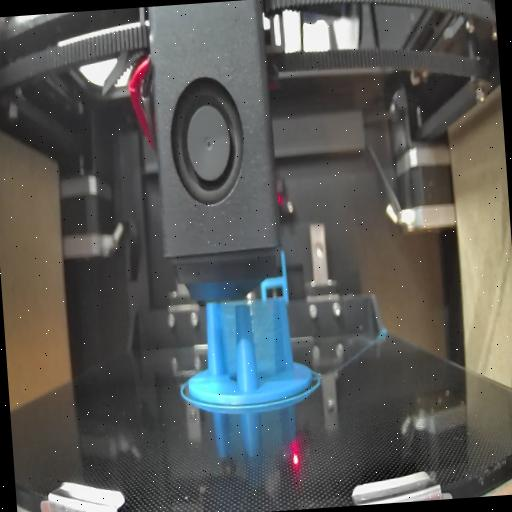stringing: (250, 298, 286, 388), (214, 300, 239, 388)
